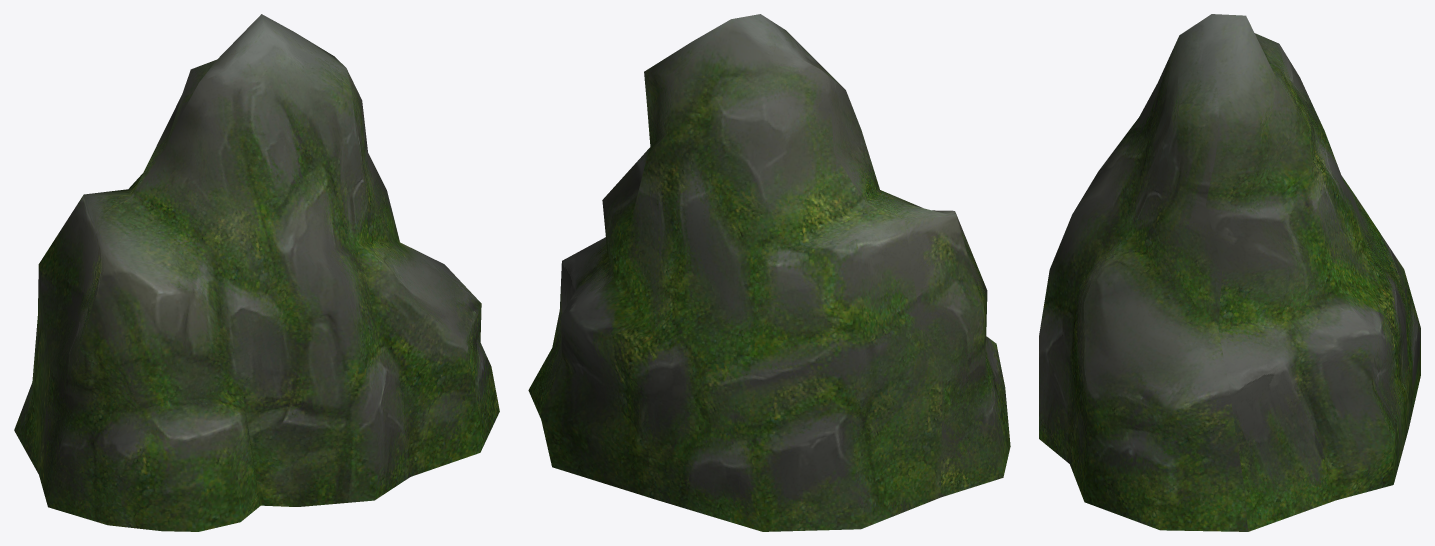
The model's file is Stage_CaoYuan_ShanShi01.FBX.
3 renders of one model, left to right at view 1: azimuth 30°, elevation 25°; view 2: azimuth 150°, elevation 25°; view 3: azimuth 270°, elevation 25°, orthographic.
Parts seen in each view (by area): view 1: Stage_CaoYuan_ShanShi01; view 2: Stage_CaoYuan_ShanShi01; view 3: Stage_CaoYuan_ShanShi01.
Part boxes in pixels (left/top/right/bottom): Stage_CaoYuan_ShanShi01: left=14, top=14, right=499, bottom=531; Stage_CaoYuan_ShanShi01: left=528, top=14, right=1010, bottom=531; Stage_CaoYuan_ShanShi01: left=1039, top=14, right=1420, bottom=531.
Bounding box in the file's own units: 905 × 814 × 673.
